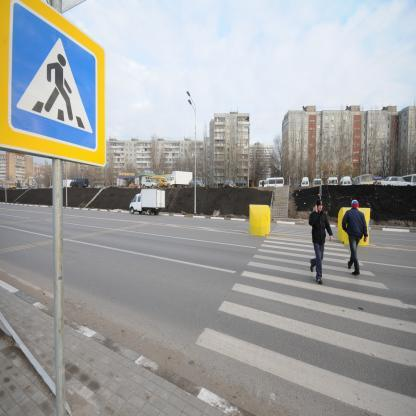road_sign: (0, 0, 104, 165)
